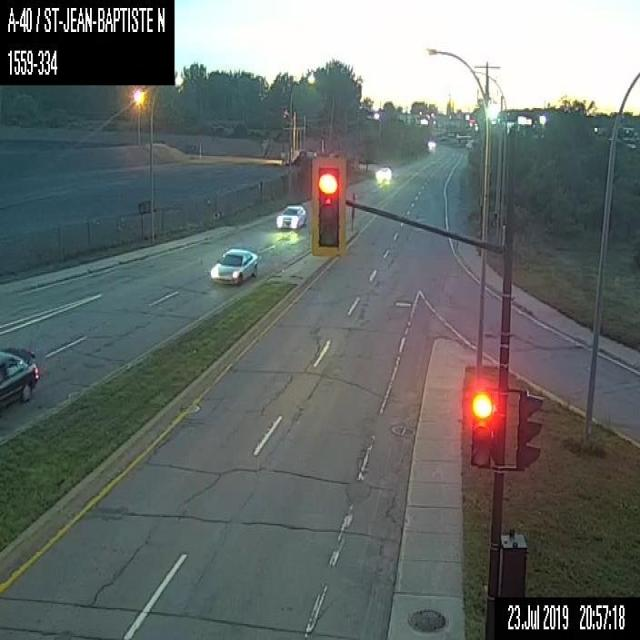vehicle: (0, 345, 40, 411), (209, 246, 258, 286), (276, 203, 306, 229), (376, 164, 391, 180)
